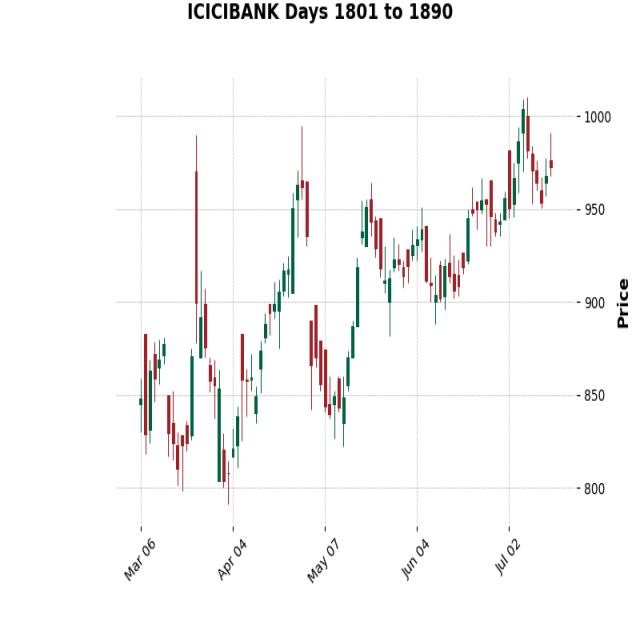Triple Bottom Reversal: (372, 152, 514, 335)
